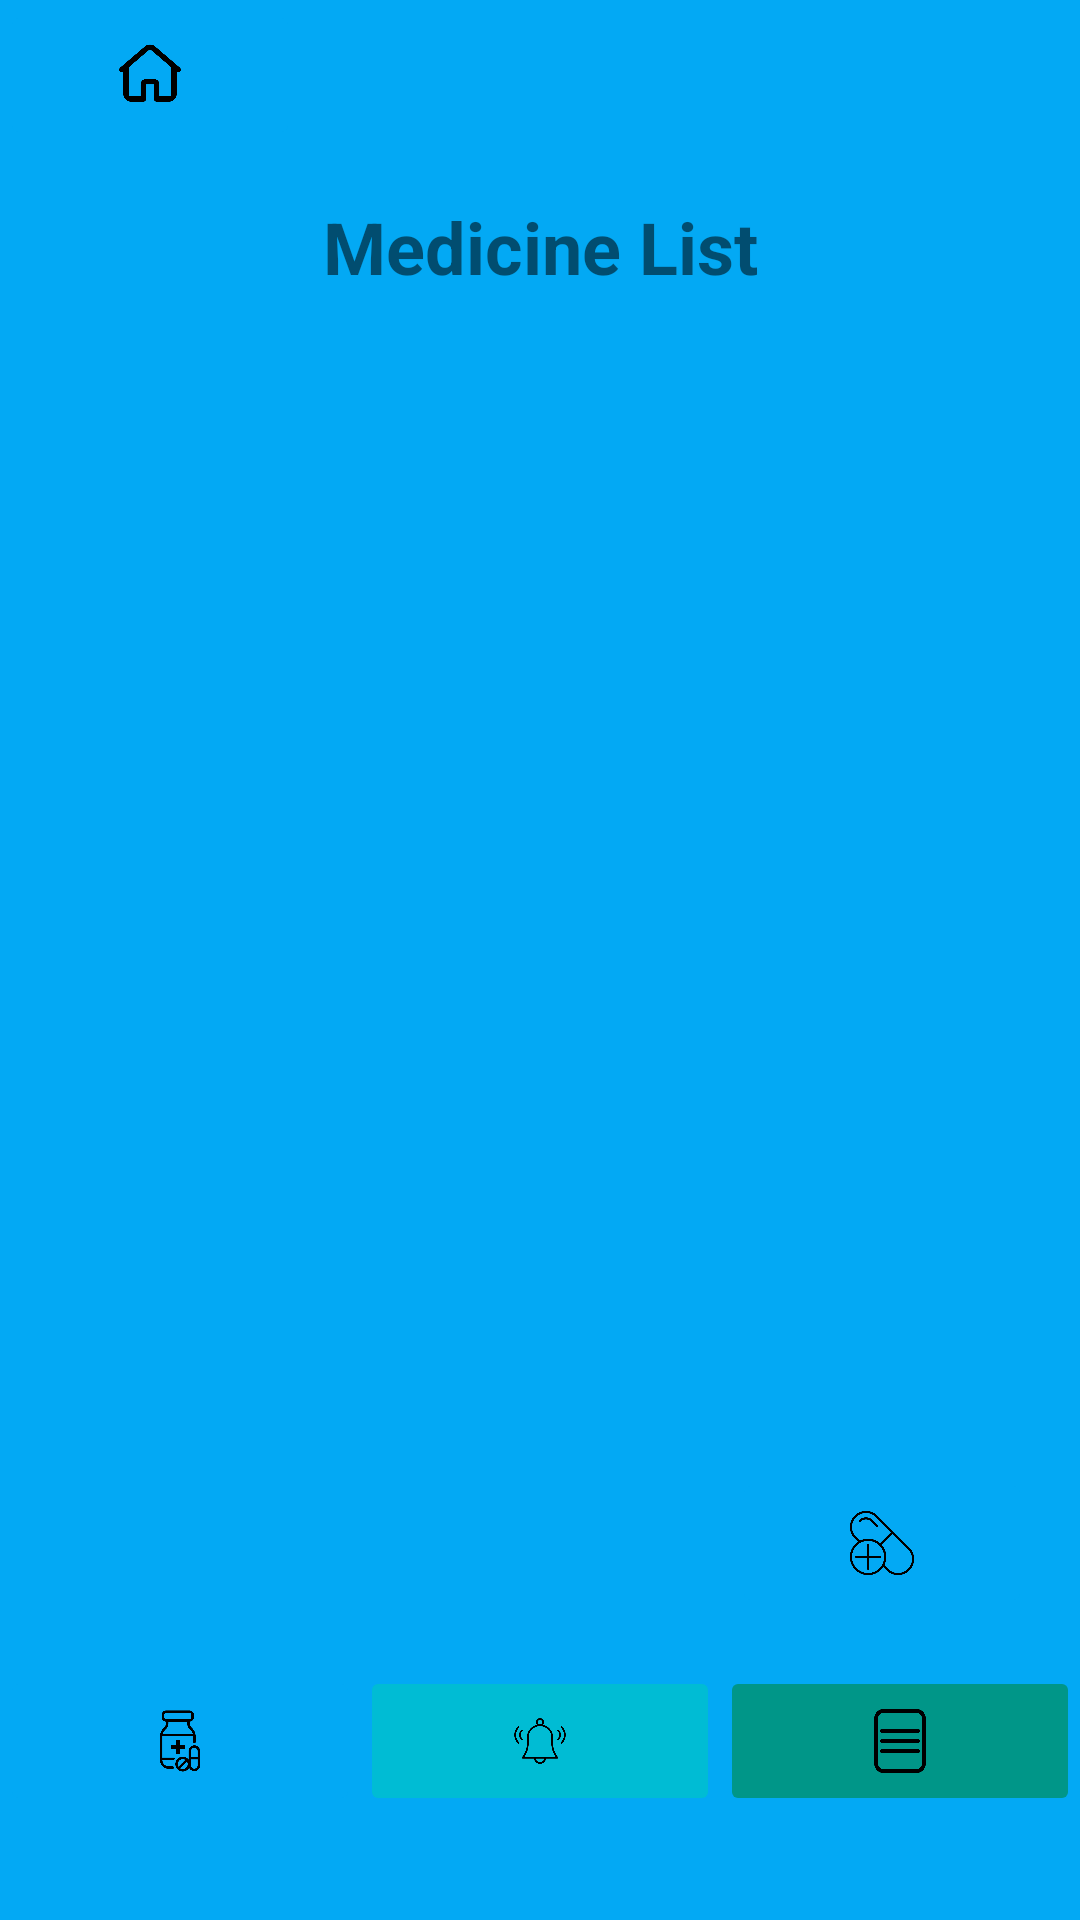

Locate icon controls on the screen. Image size 1080×1920, boxes as (x1, y1, x2, y2).
addmedicine: (850, 1511, 914, 1575)
alarm: (372, 1684, 708, 1798)
home: (119, 45, 181, 102)
medicine: (160, 1710, 200, 1772)
report: (732, 1684, 1068, 1798)
